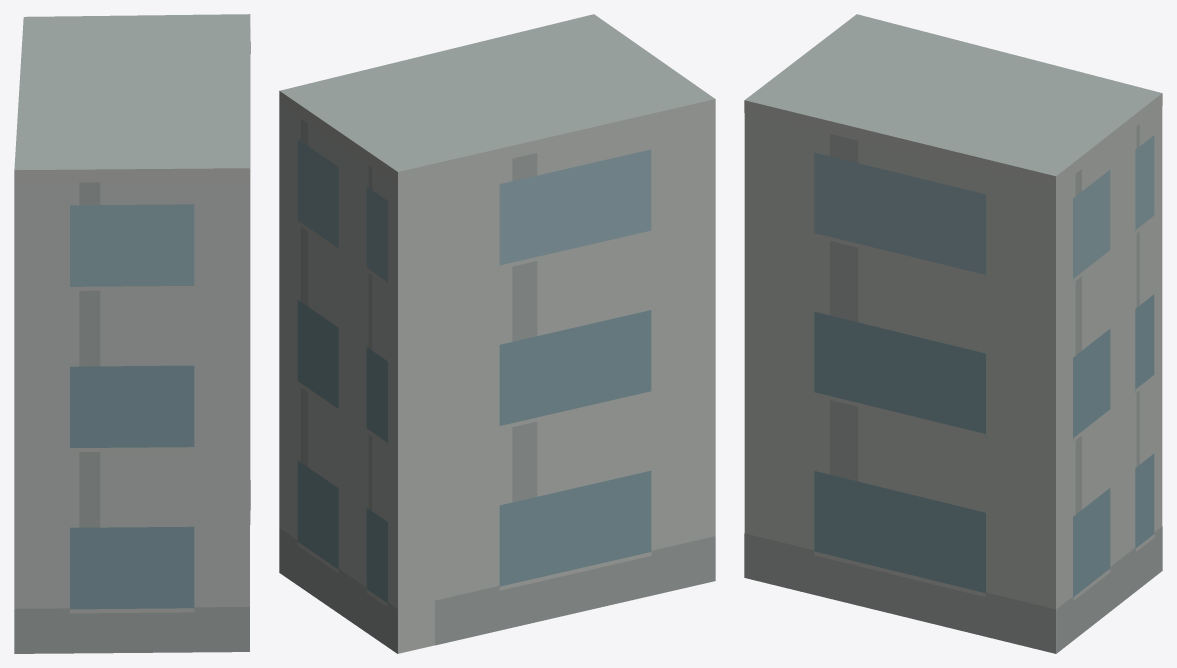
Rendered from survey-upis-32991751.glb.
The picture shows the model from 3 angles, left to right: view 1: azimuth 30°, elevation 25°; view 2: azimuth 150°, elevation 25°; view 3: azimuth 270°, elevation 25°; orthographic projection.
Visible parts, largest first — view 1: survey-upis-32991751.tmp; view 2: survey-upis-32991751.tmp; view 3: survey-upis-32991751.tmp.
Boxes of the visible parts, x1,y1,x2,y2 form: survey-upis-32991751.tmp: (14,14,250,653); survey-upis-32991751.tmp: (279,14,715,653); survey-upis-32991751.tmp: (744,14,1162,653).
Size of the model in its own units: 6.68 by 9.15 by 7.27.
